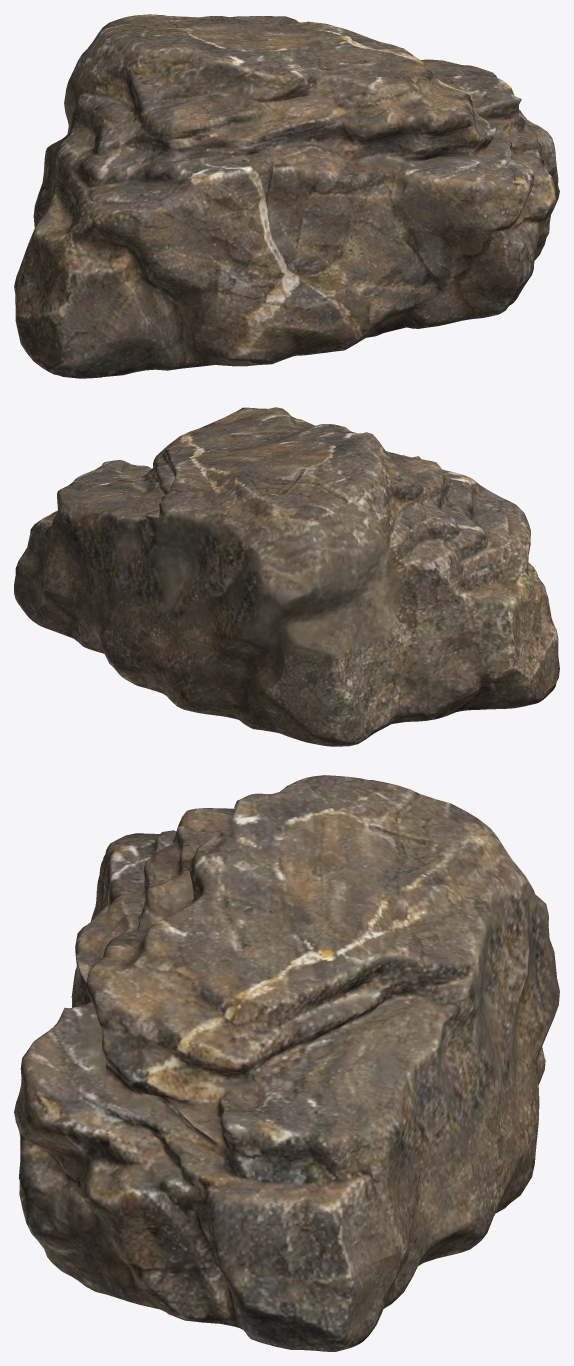
File: rock-2.glb
3 views of the same model, one above another, from view 1: azimuth 30°, elevation 25°; view 2: azimuth 150°, elevation 25°; view 3: azimuth 270°, elevation 25° (orthographic). The views are drawn at different scales.
Parts seen in each view (by area): view 1: tripo_node_79967b4a-be37-4ae7-aff3-62c5483e1028; view 2: tripo_node_79967b4a-be37-4ae7-aff3-62c5483e1028; view 3: tripo_node_79967b4a-be37-4ae7-aff3-62c5483e1028.
Boxes of the visible parts, x1,y1,x2,y2 form: tripo_node_79967b4a-be37-4ae7-aff3-62c5483e1028: (14, 14, 559, 378); tripo_node_79967b4a-be37-4ae7-aff3-62c5483e1028: (14, 407, 559, 746); tripo_node_79967b4a-be37-4ae7-aff3-62c5483e1028: (14, 775, 559, 1351).
Bounding box in the file's own units: 0.532 × 0.2423 × 0.3499.
Materials: 1 (1 with a texture image).
